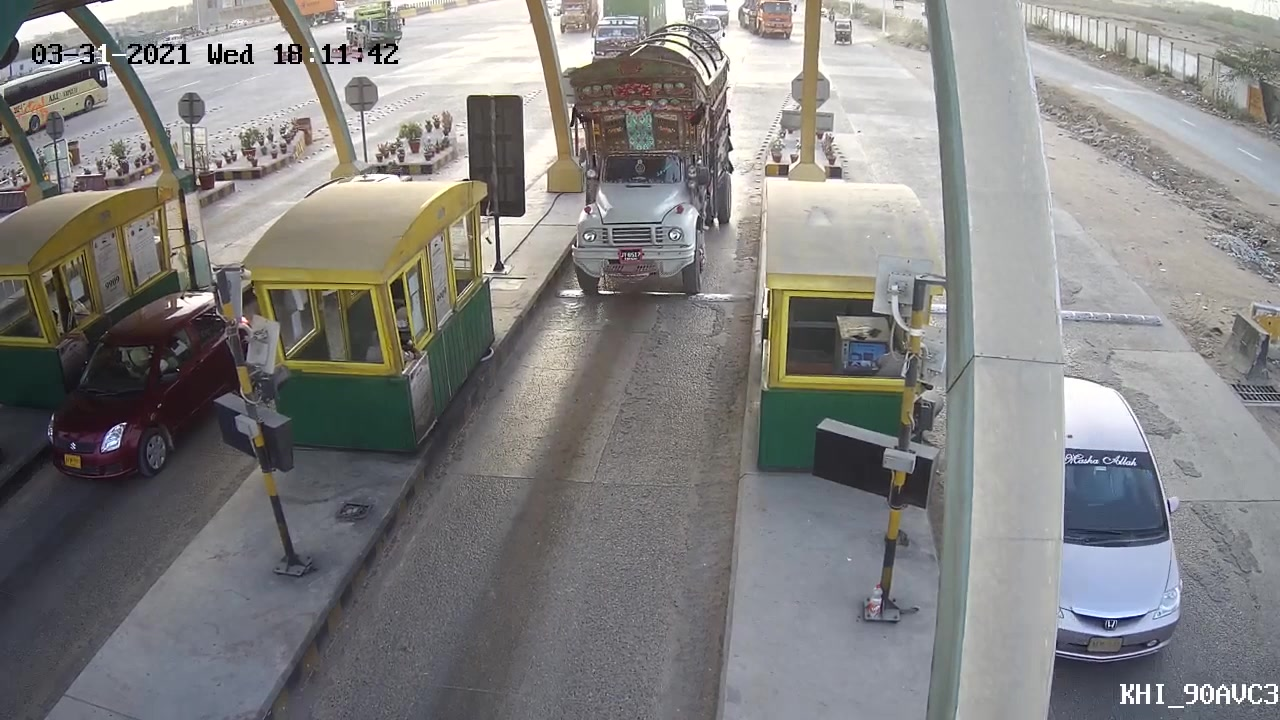F5: (551, 19, 745, 307)
